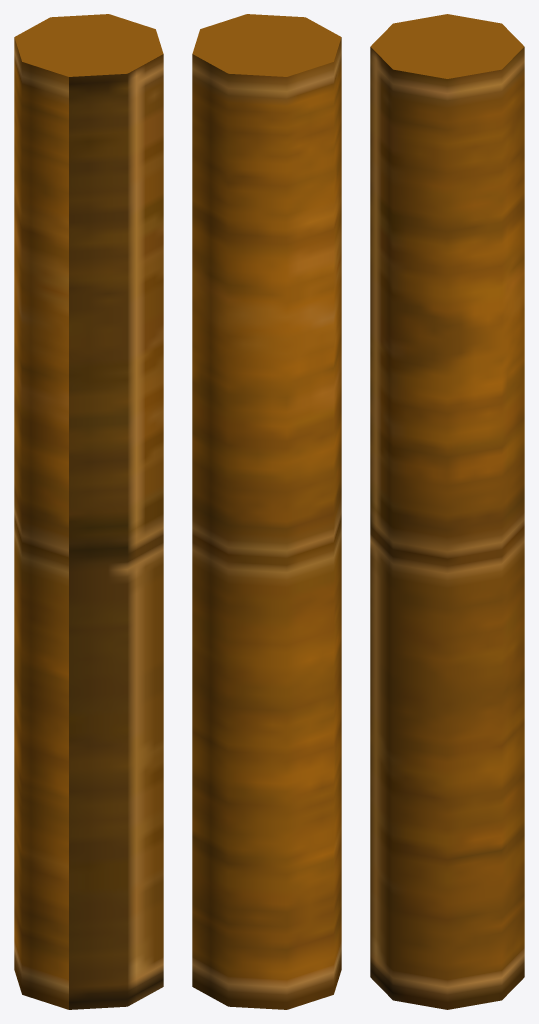
The picture shows the model from 3 angles, left to right: view 1: azimuth 30°, elevation 25°; view 2: azimuth 150°, elevation 25°; view 3: azimuth 270°, elevation 25°; orthographic projection.
Visible parts, largest first — view 1: Joint_0_Object_0; view 2: Joint_0_Object_0; view 3: Joint_0_Object_0.
Boxes of the visible parts, box(x1,y1,x2,y2) form: Joint_0_Object_0: box(14, 14, 163, 1009); Joint_0_Object_0: box(192, 14, 341, 1009); Joint_0_Object_0: box(370, 14, 524, 1009).
Size of the model in its own units: 60 by 400 by 60.
